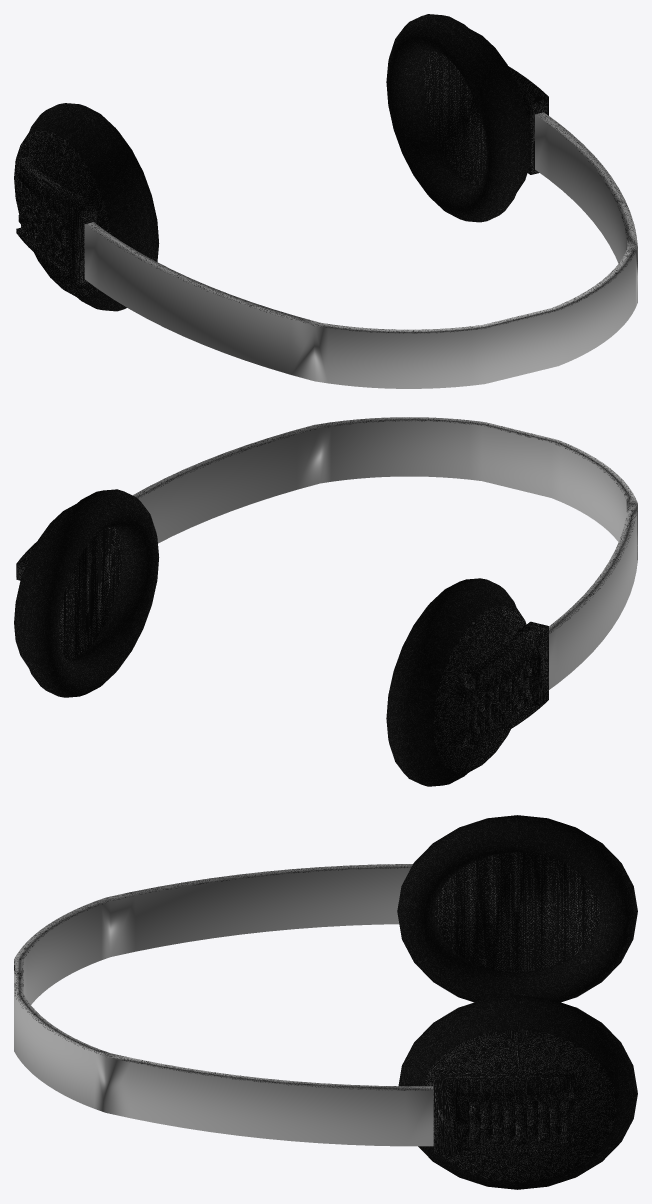
The model's file is model_scale.obj.
3 views of the same model, one above another, from view 1: azimuth 30°, elevation 25°; view 2: azimuth 150°, elevation 25°; view 3: azimuth 270°, elevation 25° (orthographic).
Parts seen in each view (by area): view 1: mesh1_mesh1-geometry; view 2: mesh1_mesh1-geometry; view 3: mesh1_mesh1-geometry.
Boxes of the visible parts, x1=… form: mesh1_mesh1-geometry: x1=14, y1=14, x2=637, y2=388; mesh1_mesh1-geometry: x1=14, y1=417, x2=637, y2=786; mesh1_mesh1-geometry: x1=14, y1=815, x2=637, y2=1189.
Size of the model in its own units: 0.1592 by 0.0605 by 0.1792.
Materials: 5 (1 with a texture image).
